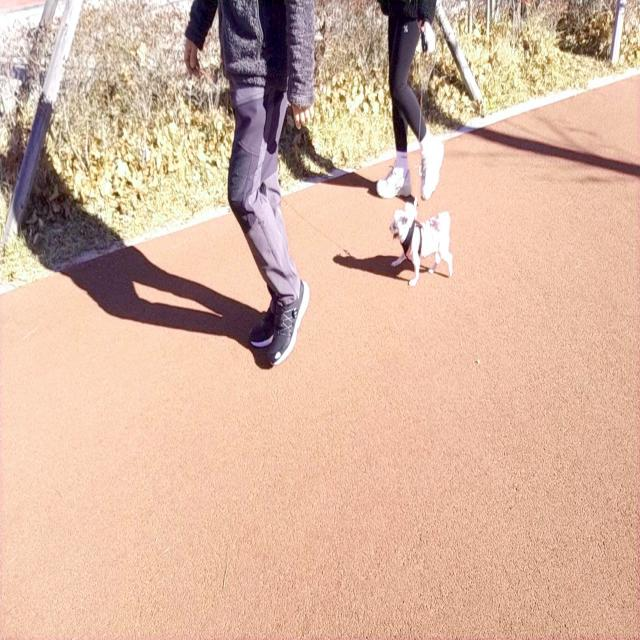Leashed_Dog: (390, 0, 453, 287)
